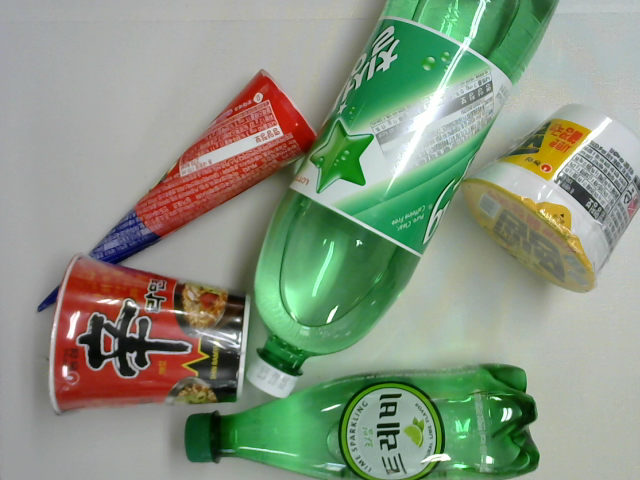Chilseong_Cider_1.5L: (246, 1, 557, 400)
Hejangmini: (462, 103, 640, 295)
Sinramen_small: (48, 252, 252, 416)
Treviraim_500ml: (185, 362, 542, 480)
World_Cone_Banila: (36, 68, 319, 310)
